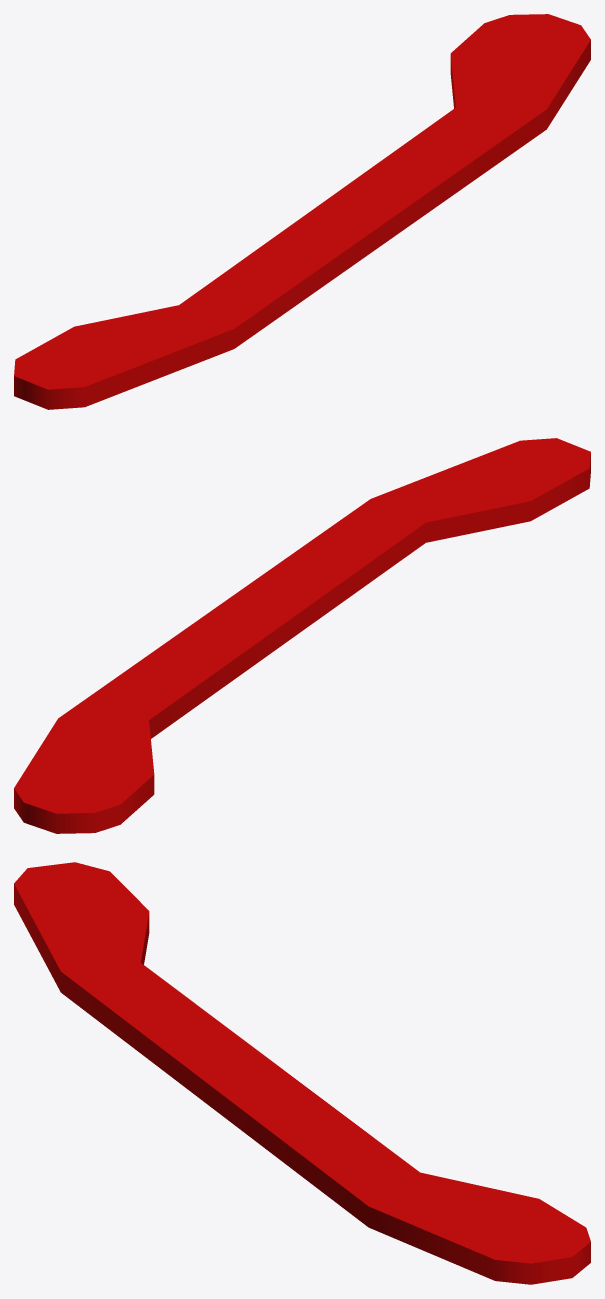
The model's file is rod_1_collision.dae.
3 views of the same model, one above another, from view 1: azimuth 30°, elevation 25°; view 2: azimuth 210°, elevation 25°; view 3: azimuth 270°, elevation 25° (orthographic). The views are drawn at different scales.
Visible parts, largest first — view 1: rod_1_collision; view 2: rod_1_collision; view 3: rod_1_collision.
Boxes of the visible parts, box(x1,y1,x2,y2) form: rod_1_collision: box(14, 14, 590, 409); rod_1_collision: box(14, 438, 590, 833); rod_1_collision: box(14, 862, 590, 1284).
Bounding box in the file's own units: 0.1206 × 0.00296 × 0.0732.
